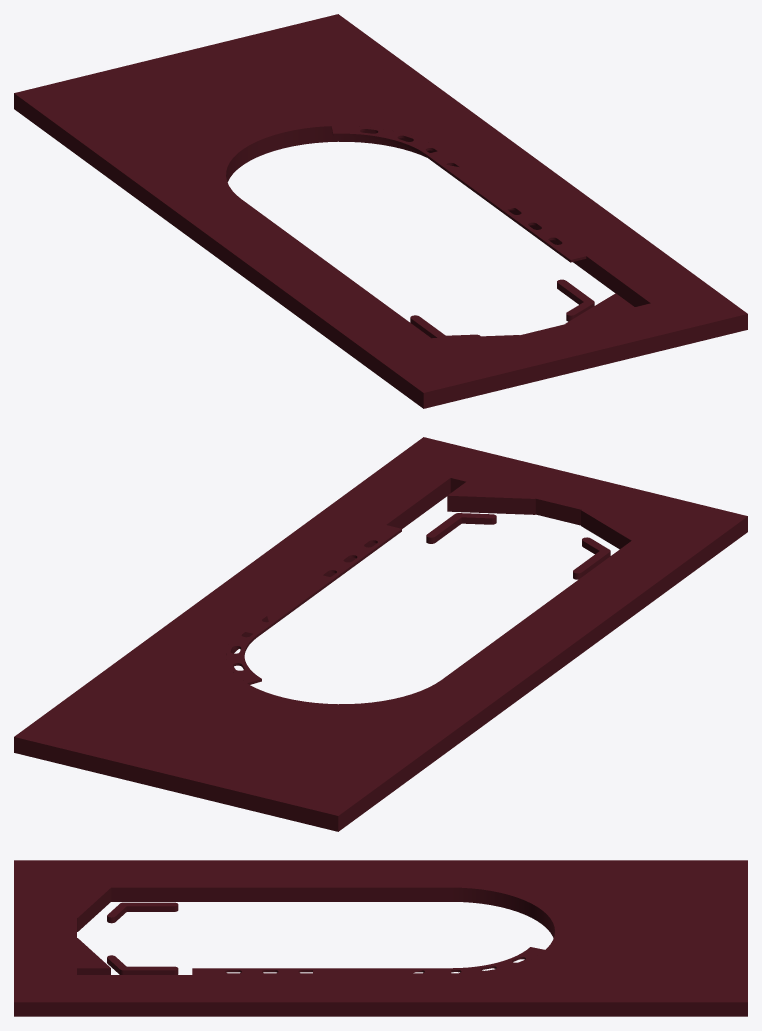
File: common-cover.dae
3 views of the same model, one above another, from view 1: azimuth 30°, elevation 25°; view 2: azimuth 150°, elevation 25°; view 3: azimuth 270°, elevation 25° (orthographic). The views are drawn at different scales.
Visible parts, largest first — view 1: cover; view 2: cover; view 3: cover.
Part boxes in pixels (<box>): cover: <box>14,14,747,408</box>; cover: <box>14,437,747,831</box>; cover: <box>14,860,747,1016</box>.
Size of the model in its own units: 1.6 by 0.075 by 3.5.
